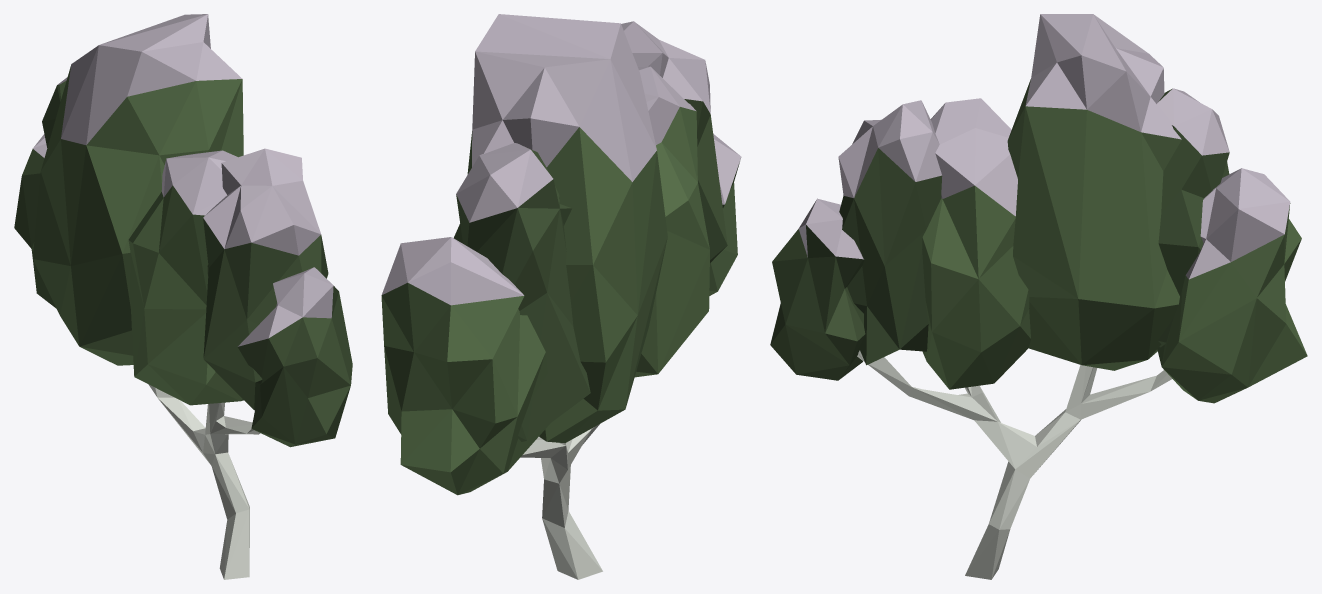
Rendered from BirchTree_Snow_4.lod2.glb.
3 renders of one model, left to right at view 1: azimuth 30°, elevation 25°; view 2: azimuth 150°, elevation 25°; view 3: azimuth 270°, elevation 25°, orthographic. The views are drawn at different scales.
Parts seen in each view (by area): view 1: BirchTree_Snow_4; view 2: BirchTree_Snow_4; view 3: BirchTree_Snow_4.
Boxes of the visible parts, bbox=[...] form: BirchTree_Snow_4: bbox=[14, 14, 352, 579]; BirchTree_Snow_4: bbox=[381, 14, 741, 579]; BirchTree_Snow_4: bbox=[770, 14, 1307, 579].
Size of the model in its own units: 1.16 by 3.57 by 3.29.
